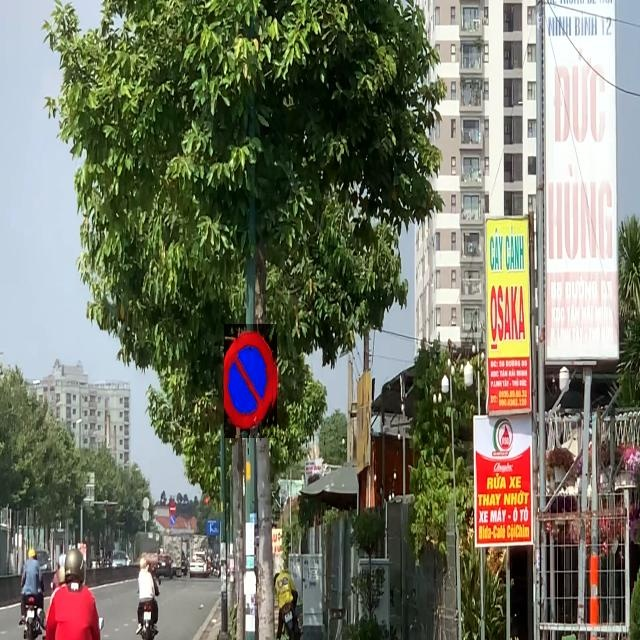bien_cam: (224, 324, 277, 438), (169, 502, 176, 515), (169, 514, 176, 527)
